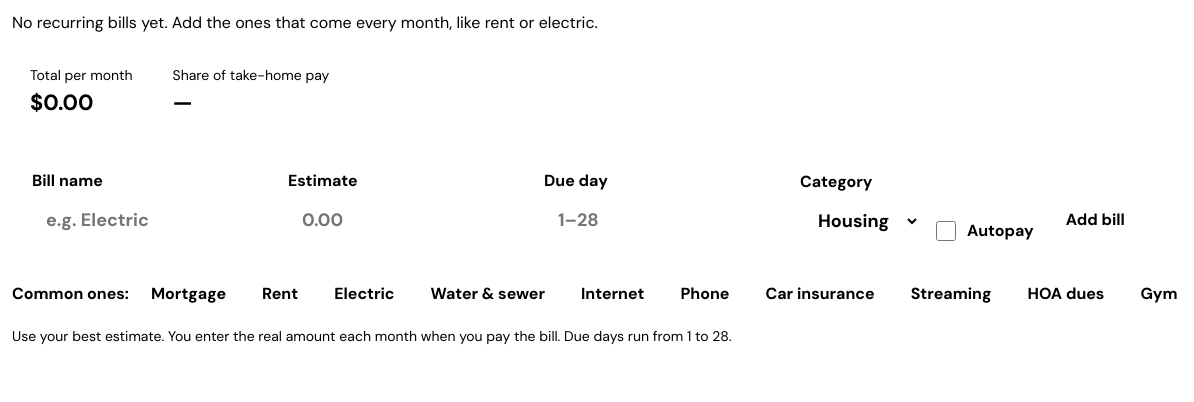
Scenario: P1-12 recurring bills step › shows a message when saving fails, and keeps what was typed
The width and height of the screenshot is (1194, 402).
Type "Gym" into the field labelled "Bill name".
click(154, 220); type("Gym")  # box [32,197,276,244]
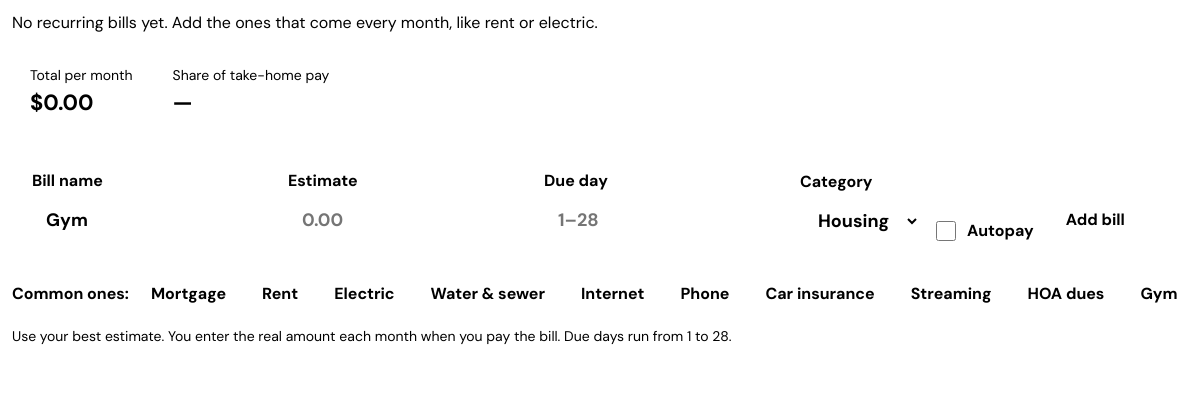
Type "30" into the field labelled "Estimate".
click(410, 220); type("30")  # box [288,197,532,244]
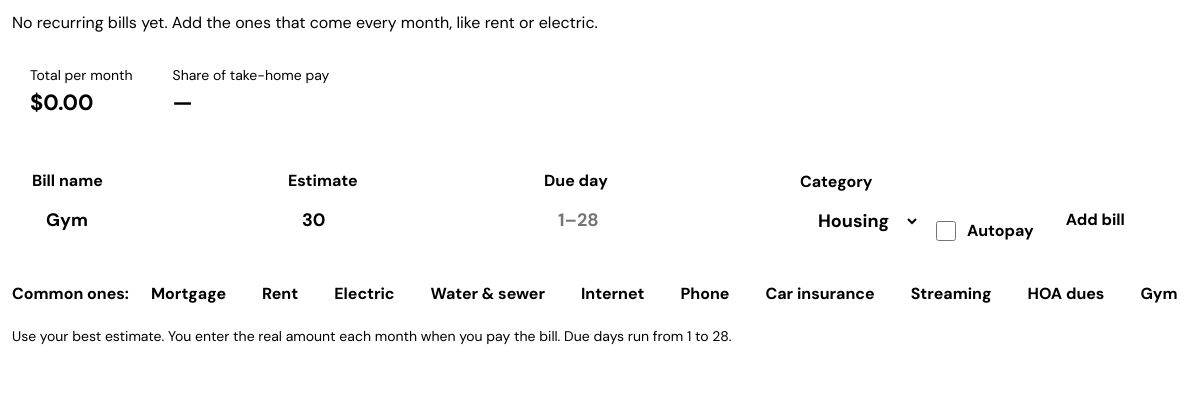
Type "3" into the field labelled "Due day".
click(666, 220); type("3")  # box [544,197,788,244]
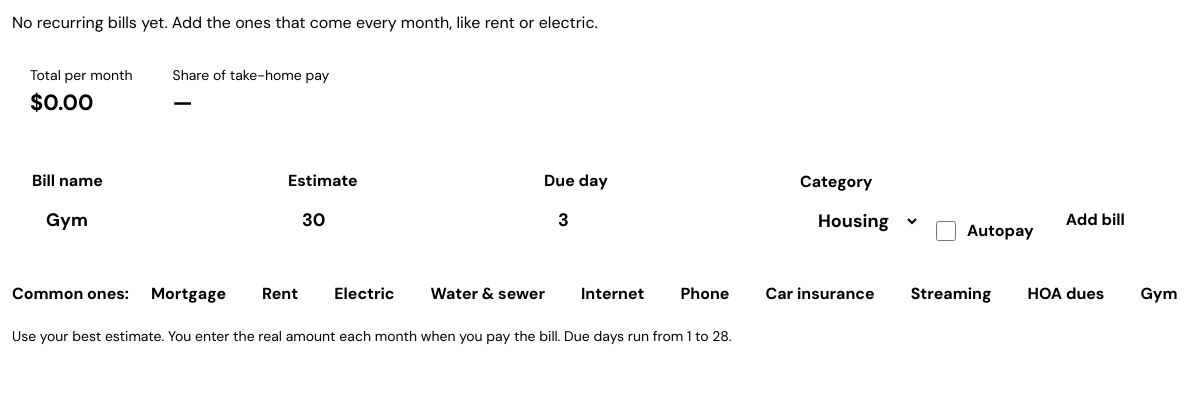
Click the button "Add bill".
click(1095, 220)  # box [1046,196,1145,244]
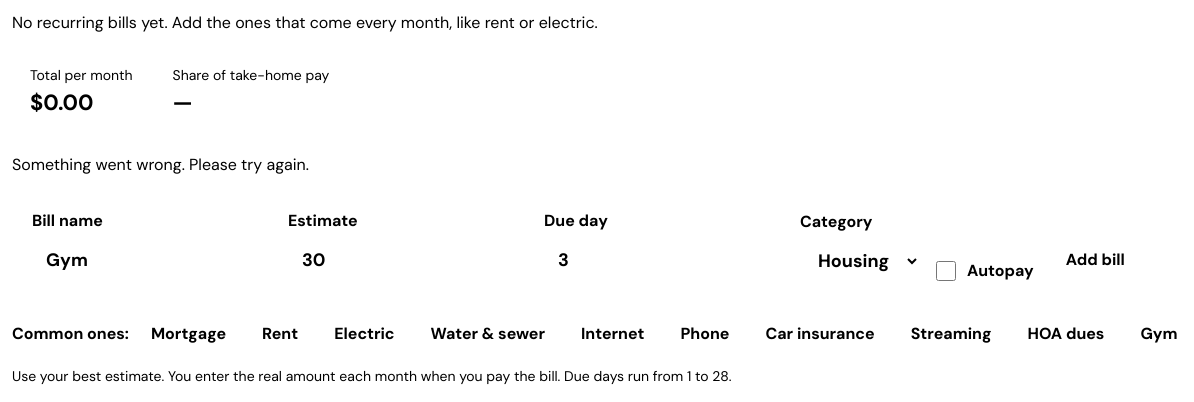
Check: the message "Something went wrong. Please try again." is shown, box [12,154,309,175]
